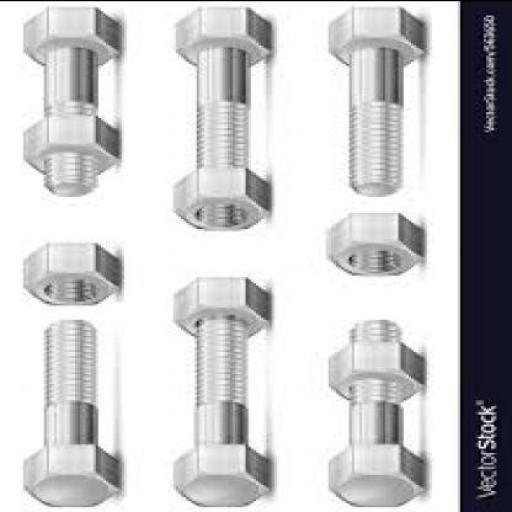metal: (170, 318, 272, 508), (328, 8, 426, 198), (326, 320, 424, 508), (20, 323, 119, 508), (24, 9, 120, 193), (170, 9, 274, 171), (323, 212, 422, 278), (170, 169, 272, 230), (24, 242, 120, 306), (326, 344, 424, 404), (170, 280, 269, 339), (20, 117, 119, 173)
